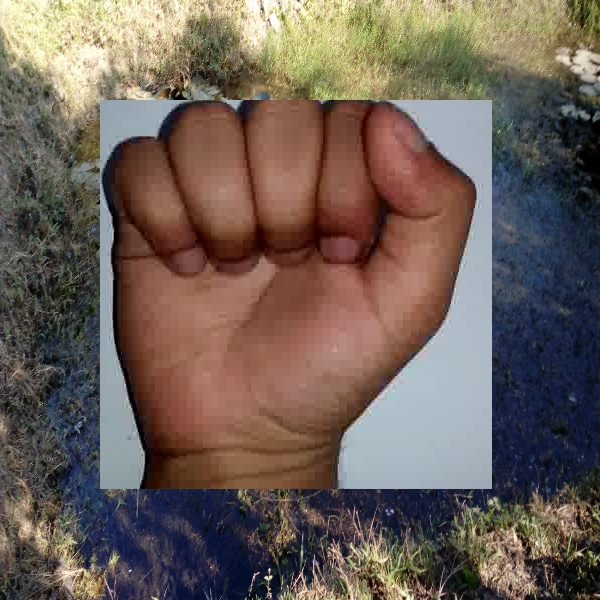A: (100, 100, 492, 489)
